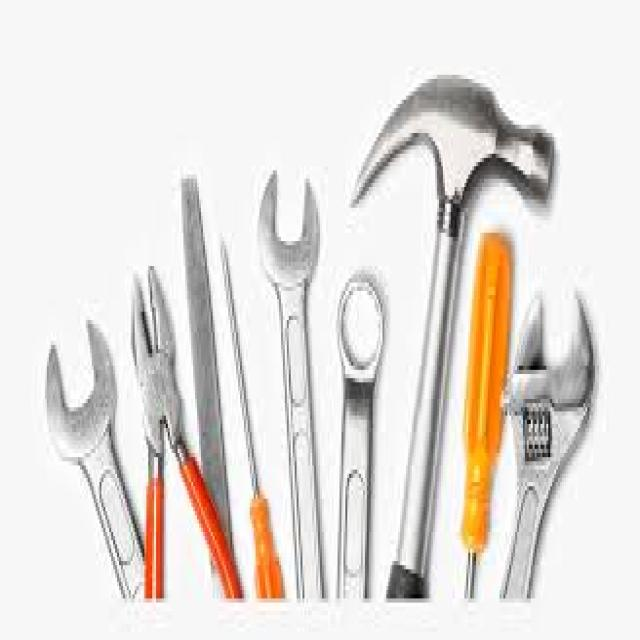wrench: (493, 288, 616, 612)
